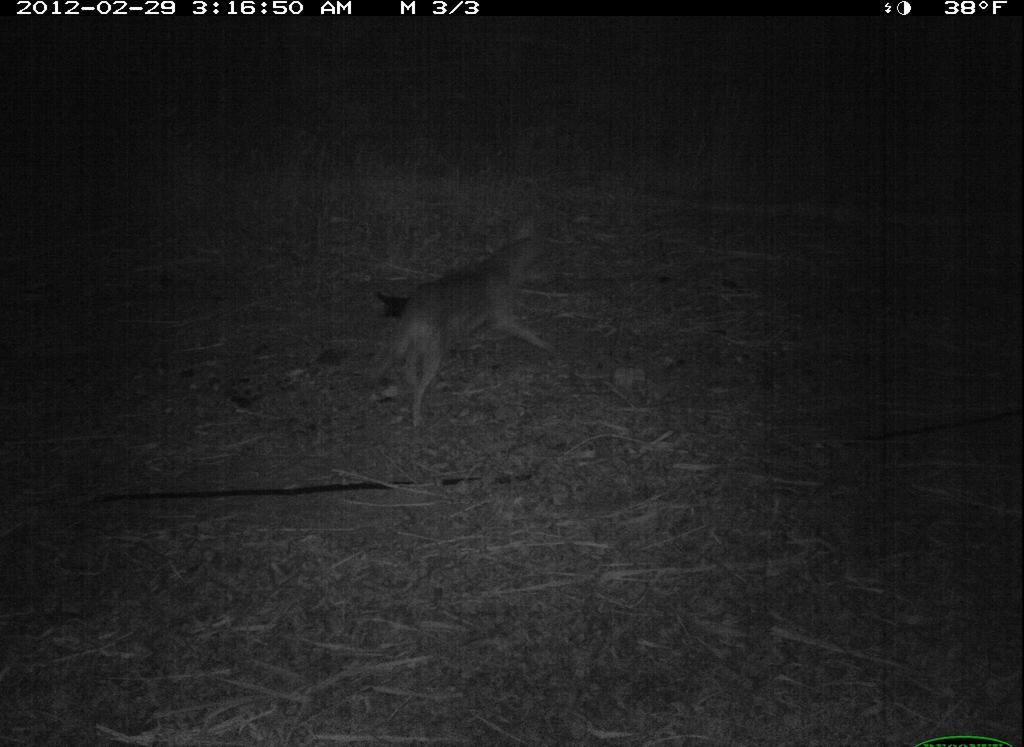coyote: (361, 214, 569, 449)
